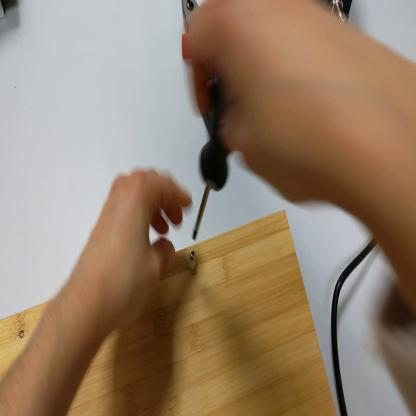hand: (183, 4, 360, 210), (80, 168, 194, 333)
oscilloscope: (1, 3, 6, 21)
pliers: (183, 1, 211, 134)
screwdriver-: (195, 75, 231, 245)
welder station: (316, 4, 351, 28)
working area: (2, 209, 339, 416)
